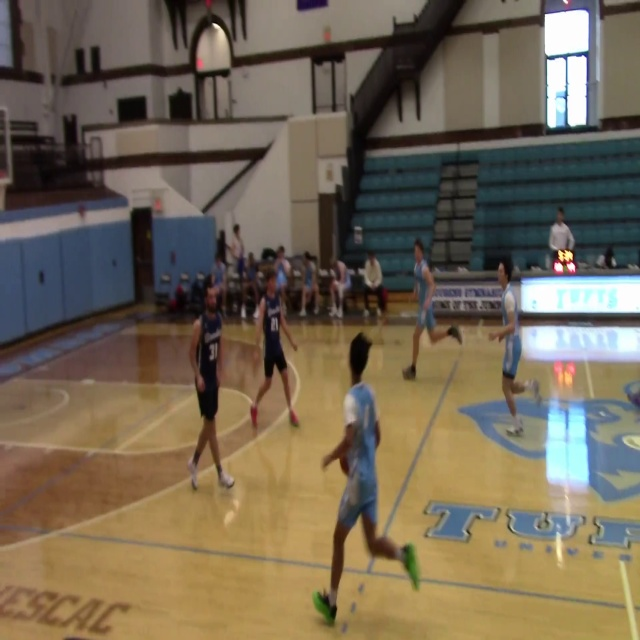Basketball: (502, 290, 516, 312), (511, 380, 525, 394)
